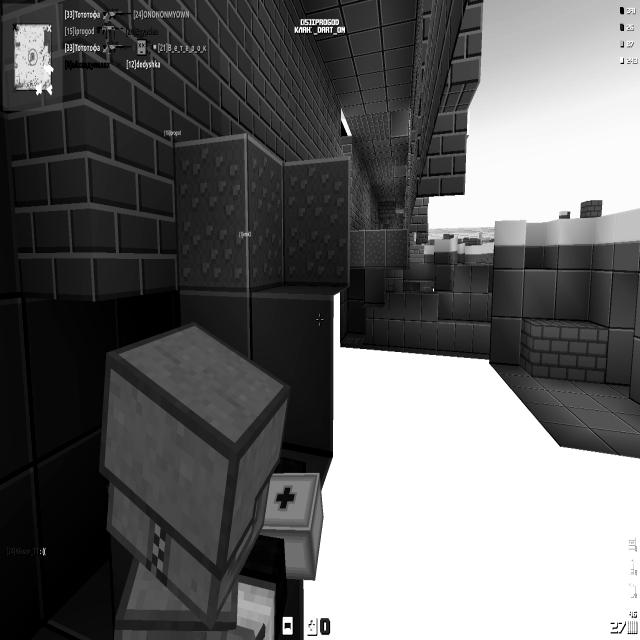Head: (99, 320, 291, 635)
Player: (98, 317, 324, 640)
